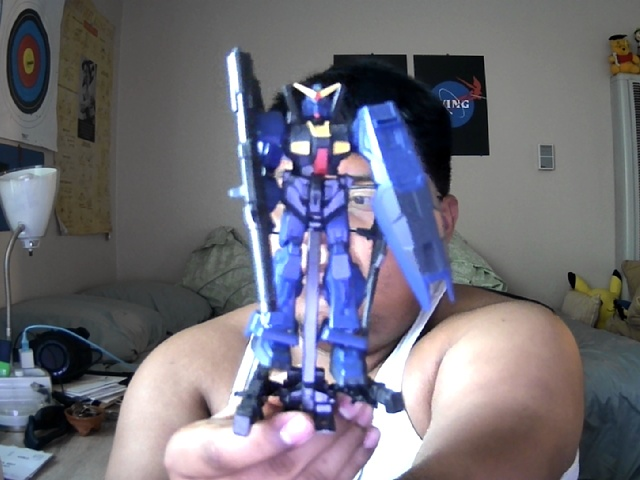Mk-11-Titans: (226, 46, 456, 389)
